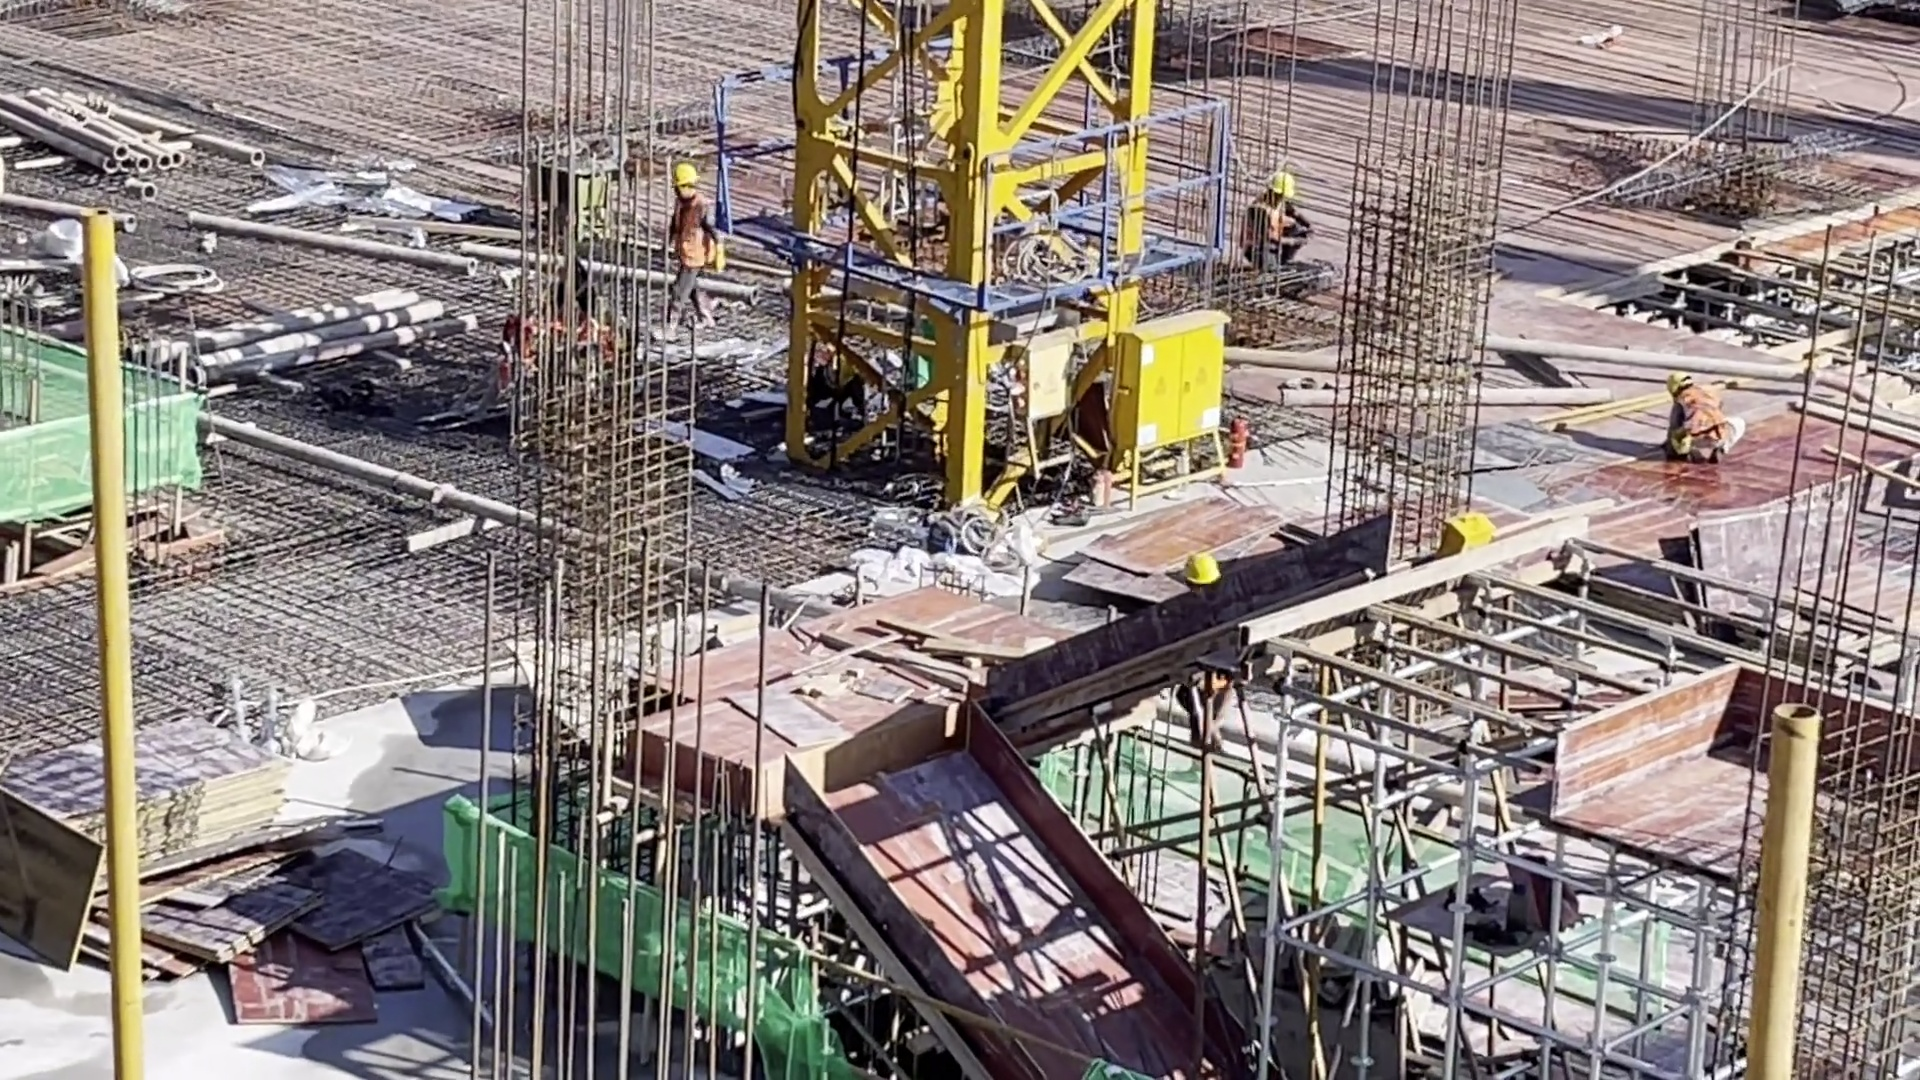board: (140, 851, 449, 1029), (5, 719, 308, 880)
ebox: (1139, 322, 1249, 519), (1024, 340, 1115, 495), (1436, 507, 1500, 555)
helmet: (1166, 548, 1230, 586), (1271, 173, 1300, 200), (669, 161, 698, 185)
person: (669, 162, 724, 330), (1235, 173, 1314, 276), (1665, 378, 1751, 467)
vest: (670, 192, 714, 271), (1675, 386, 1725, 441)
